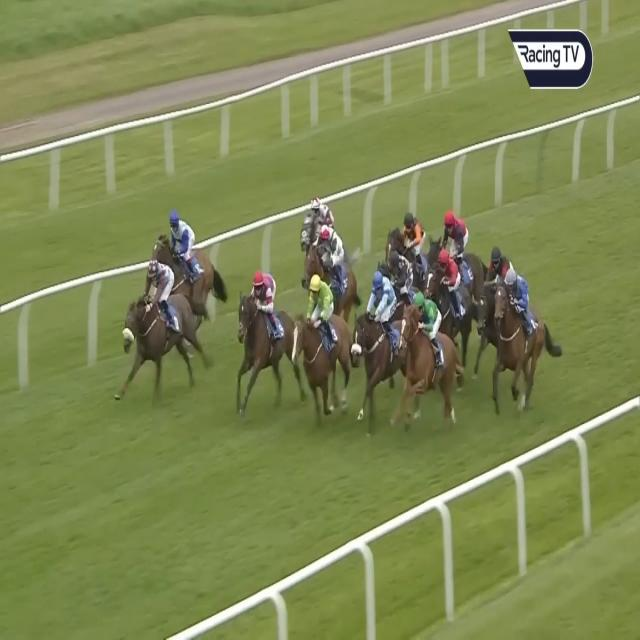horses-racing: (120, 260, 200, 390), (492, 273, 554, 421), (234, 273, 290, 402), (150, 215, 222, 314), (296, 274, 345, 418), (400, 288, 451, 424), (359, 265, 401, 380), (426, 206, 480, 282), (306, 222, 354, 307), (429, 251, 471, 341), (479, 244, 517, 330), (384, 213, 427, 267), (298, 198, 336, 254)
